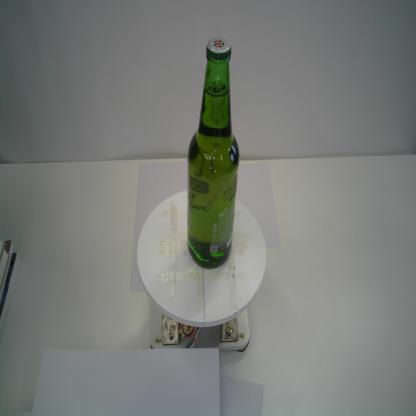Alcohol: (184, 34, 241, 272)
